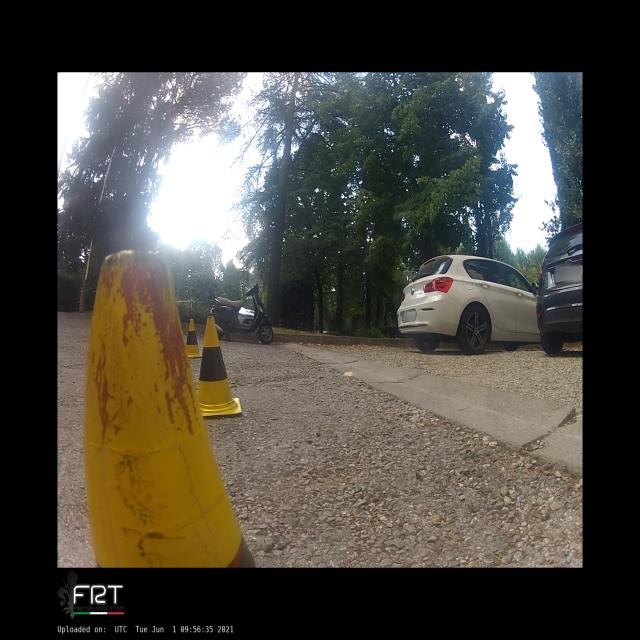yellow_cone: (83, 249, 258, 566), (197, 316, 242, 416), (185, 318, 201, 359)
